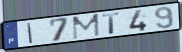4: (128, 8, 149, 32)
7: (49, 16, 71, 43)
9: (153, 6, 175, 30)
I: (27, 22, 34, 44)
M: (72, 12, 102, 41)
T: (101, 12, 122, 36)
